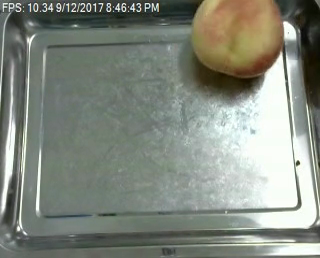Peach: (192, 1, 283, 78)
